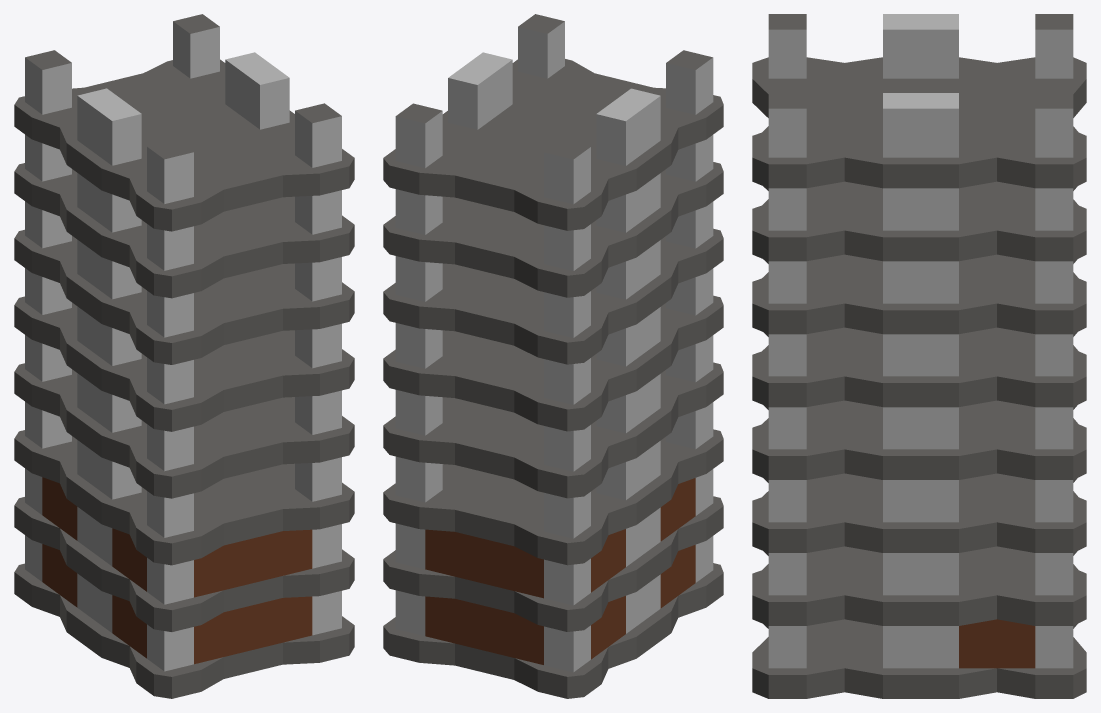
Rendered from construction_building_2.fbx.
The picture shows the model from 3 angles, left to right: view 1: azimuth 30°, elevation 25°; view 2: azimuth 150°, elevation 25°; view 3: azimuth 270°, elevation 25°; orthographic projection. The views are drawn at different scales.
Visible parts, largest first — view 1: Cube; view 2: Cube; view 3: Cube.
Part boxes in pixels (x1=…): Cube: x1=14, y1=14, x2=354, y2=698; Cube: x1=383, y1=14, x2=723, y2=698; Cube: x1=752, y1=14, x2=1086, y2=698.
Bounding box in the file's own units: 1017 × 2588 × 1344.
